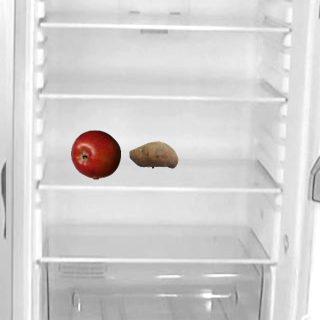Apple Braeburn: (70, 129, 120, 179)
Potato Sweet: (128, 129, 178, 179)
